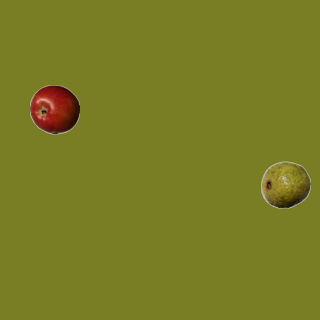Apple Braeburn: (29, 84, 79, 134)
Guava: (260, 159, 310, 209)
